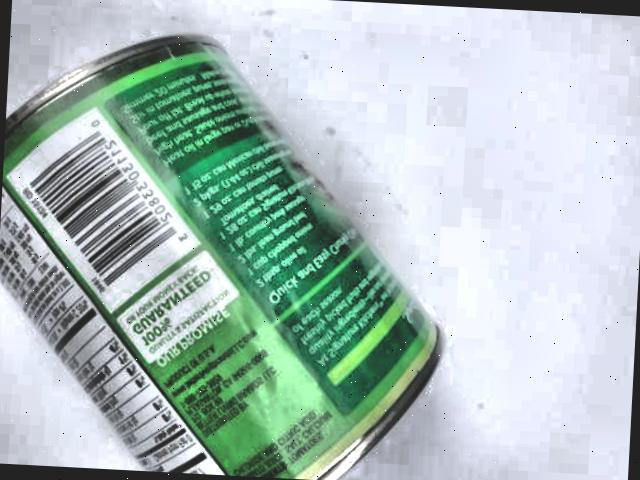Almennt: (0, 15, 481, 480)
